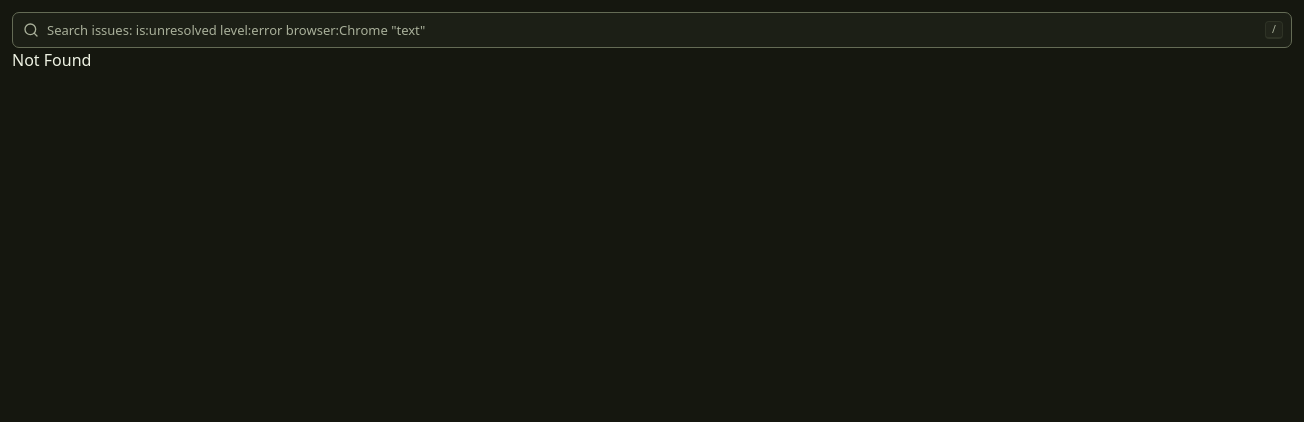
Scenario: SearchBar › suggests keys, then values, and submits the query
Later steps or results of the test are not shown.
Click the dropdown labelled "Search issues".
click(652, 30)  # box [39,13,1265,47]
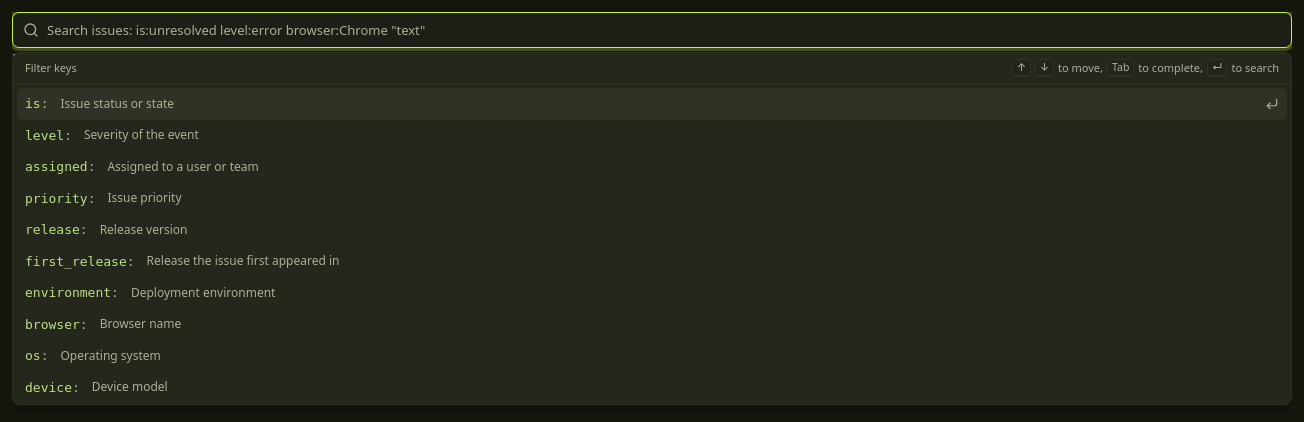
Type "lev" into the dropdown labelled "Search issues".
click(665, 30); type("lev")  # box [39,13,1291,47]
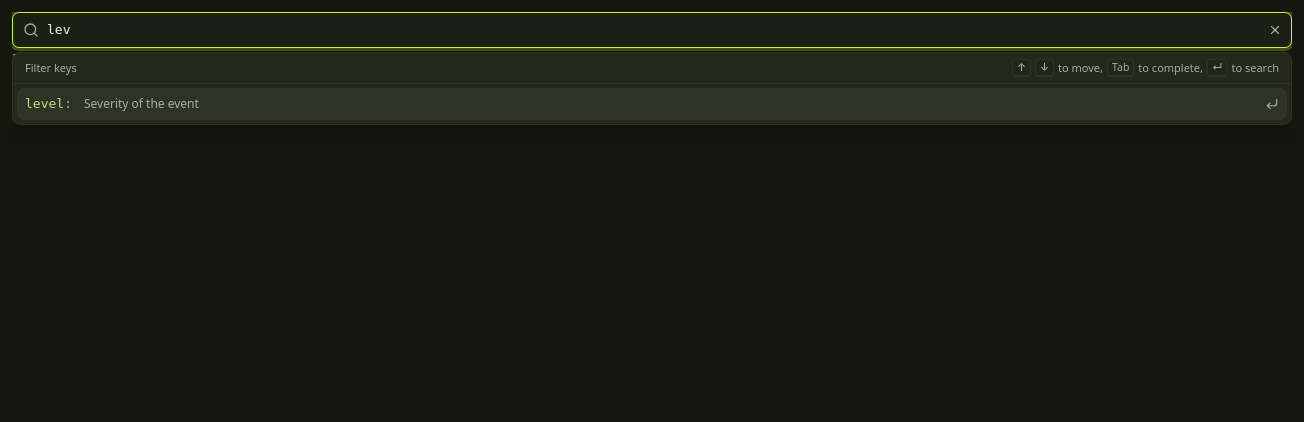
Now the option named "level:Severity" is selected, box [17,88,1287,120]
Press Tab
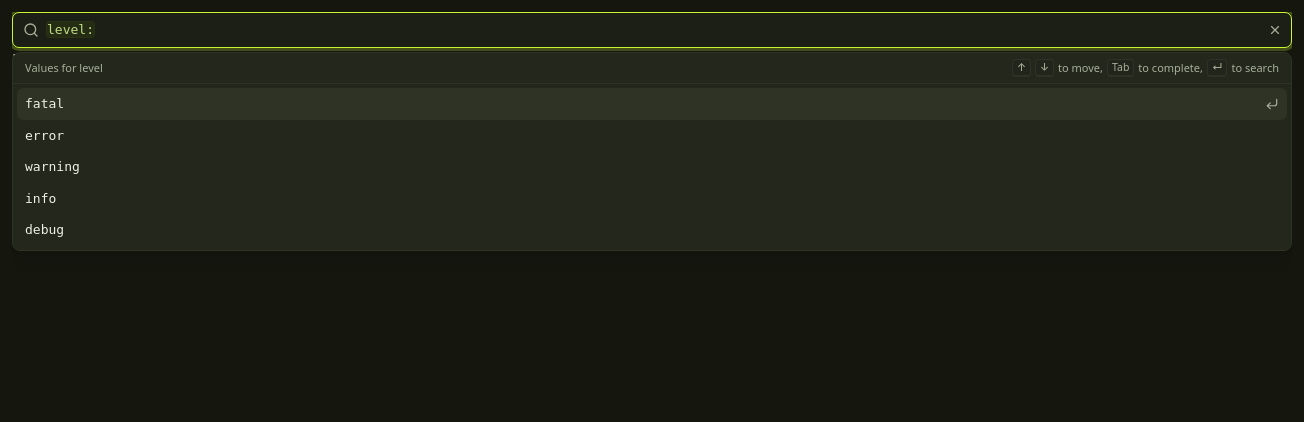
Now the dropdown named "Search issues" holds "level:"
Now the option "fatal" is shown, box [17,88,1287,120]
Type "err" into the dropdown named "Search issues".
click(651, 30); type("err")  # box [39,13,1263,47]
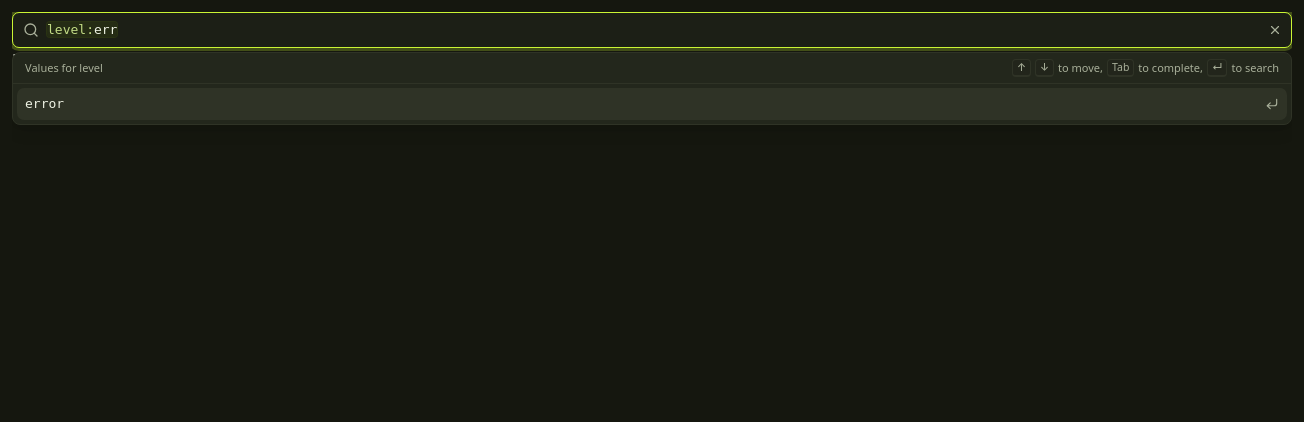
Press Enter
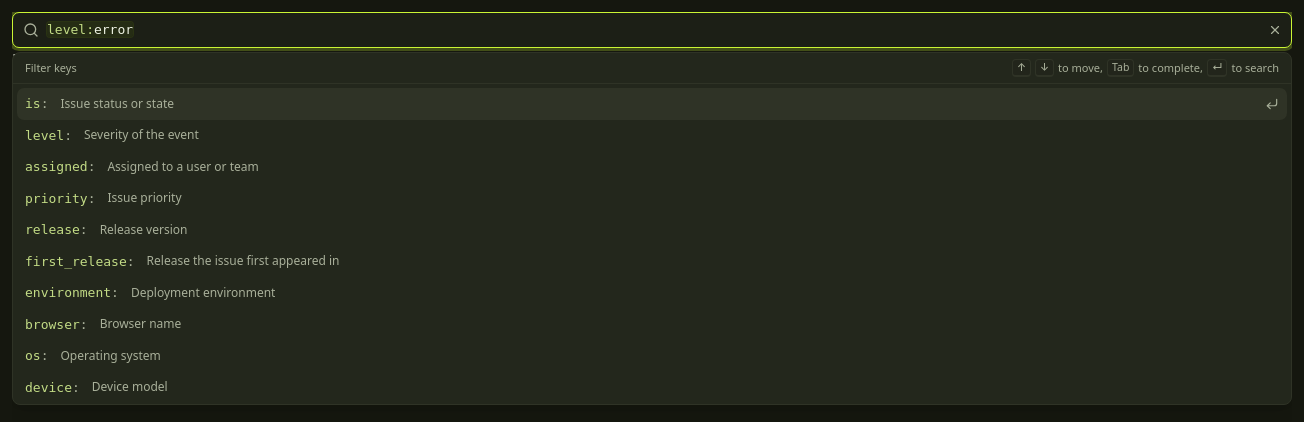
Now the dropdown named "Search issues" holds "level:error ", box [39,13,1263,47]
